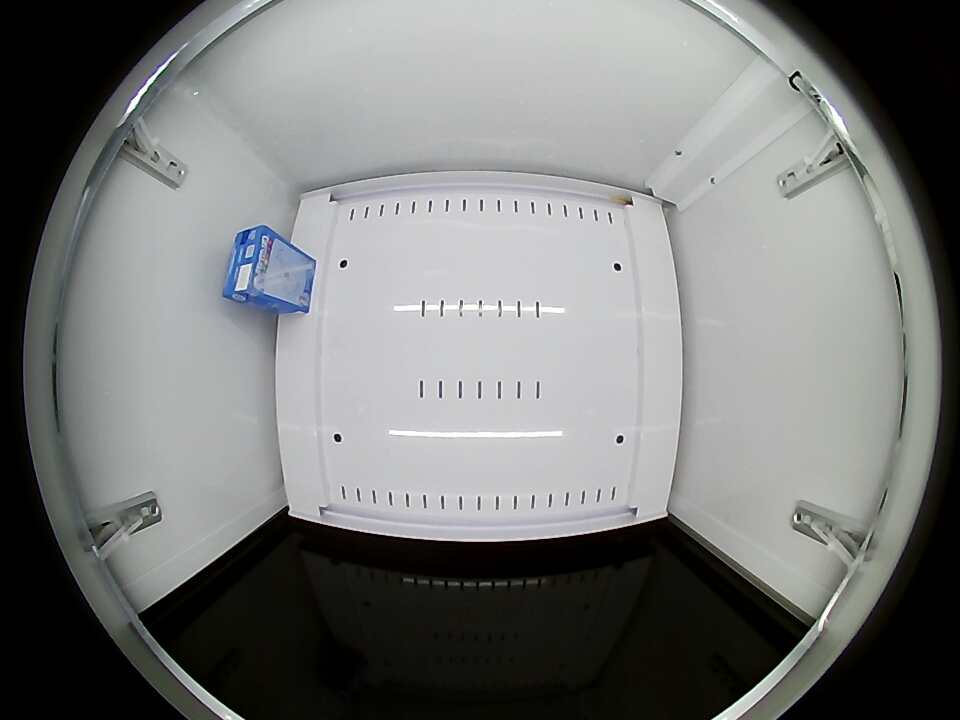weitanai: (223, 225, 282, 306)
